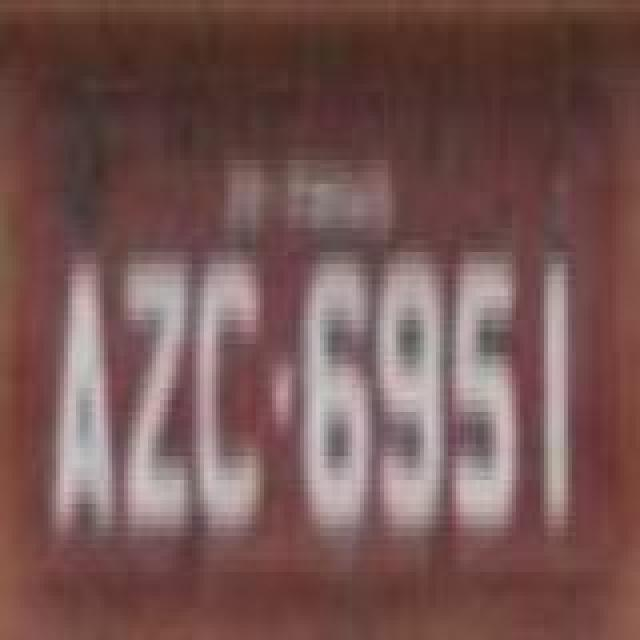1: (540, 246, 572, 554)
5: (448, 250, 520, 550)
6: (300, 250, 372, 550)
9: (374, 250, 450, 550)
A: (50, 256, 118, 544)
C: (192, 248, 264, 536)
Z: (118, 250, 194, 550)
